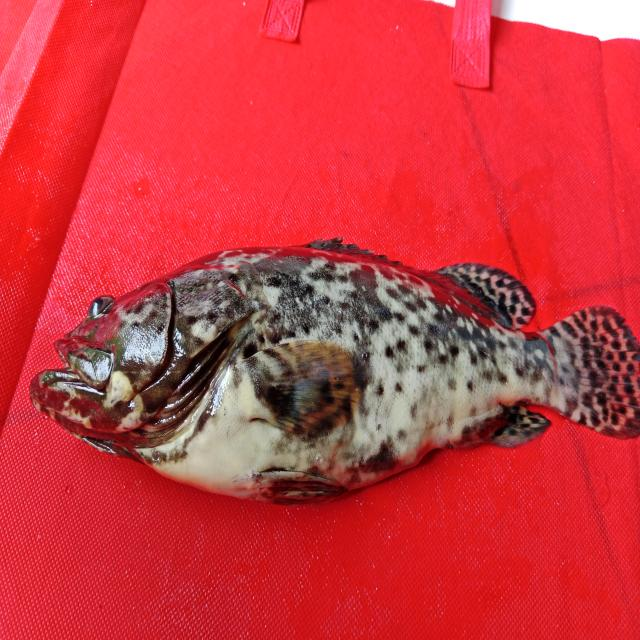ikan: (29, 235, 638, 507)
